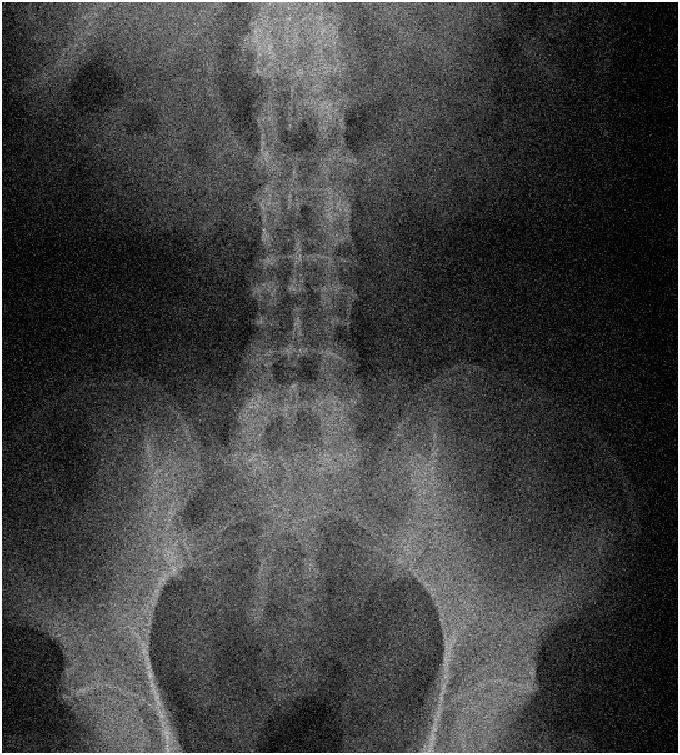lumbar scoliosis: (239, 130, 357, 426)
